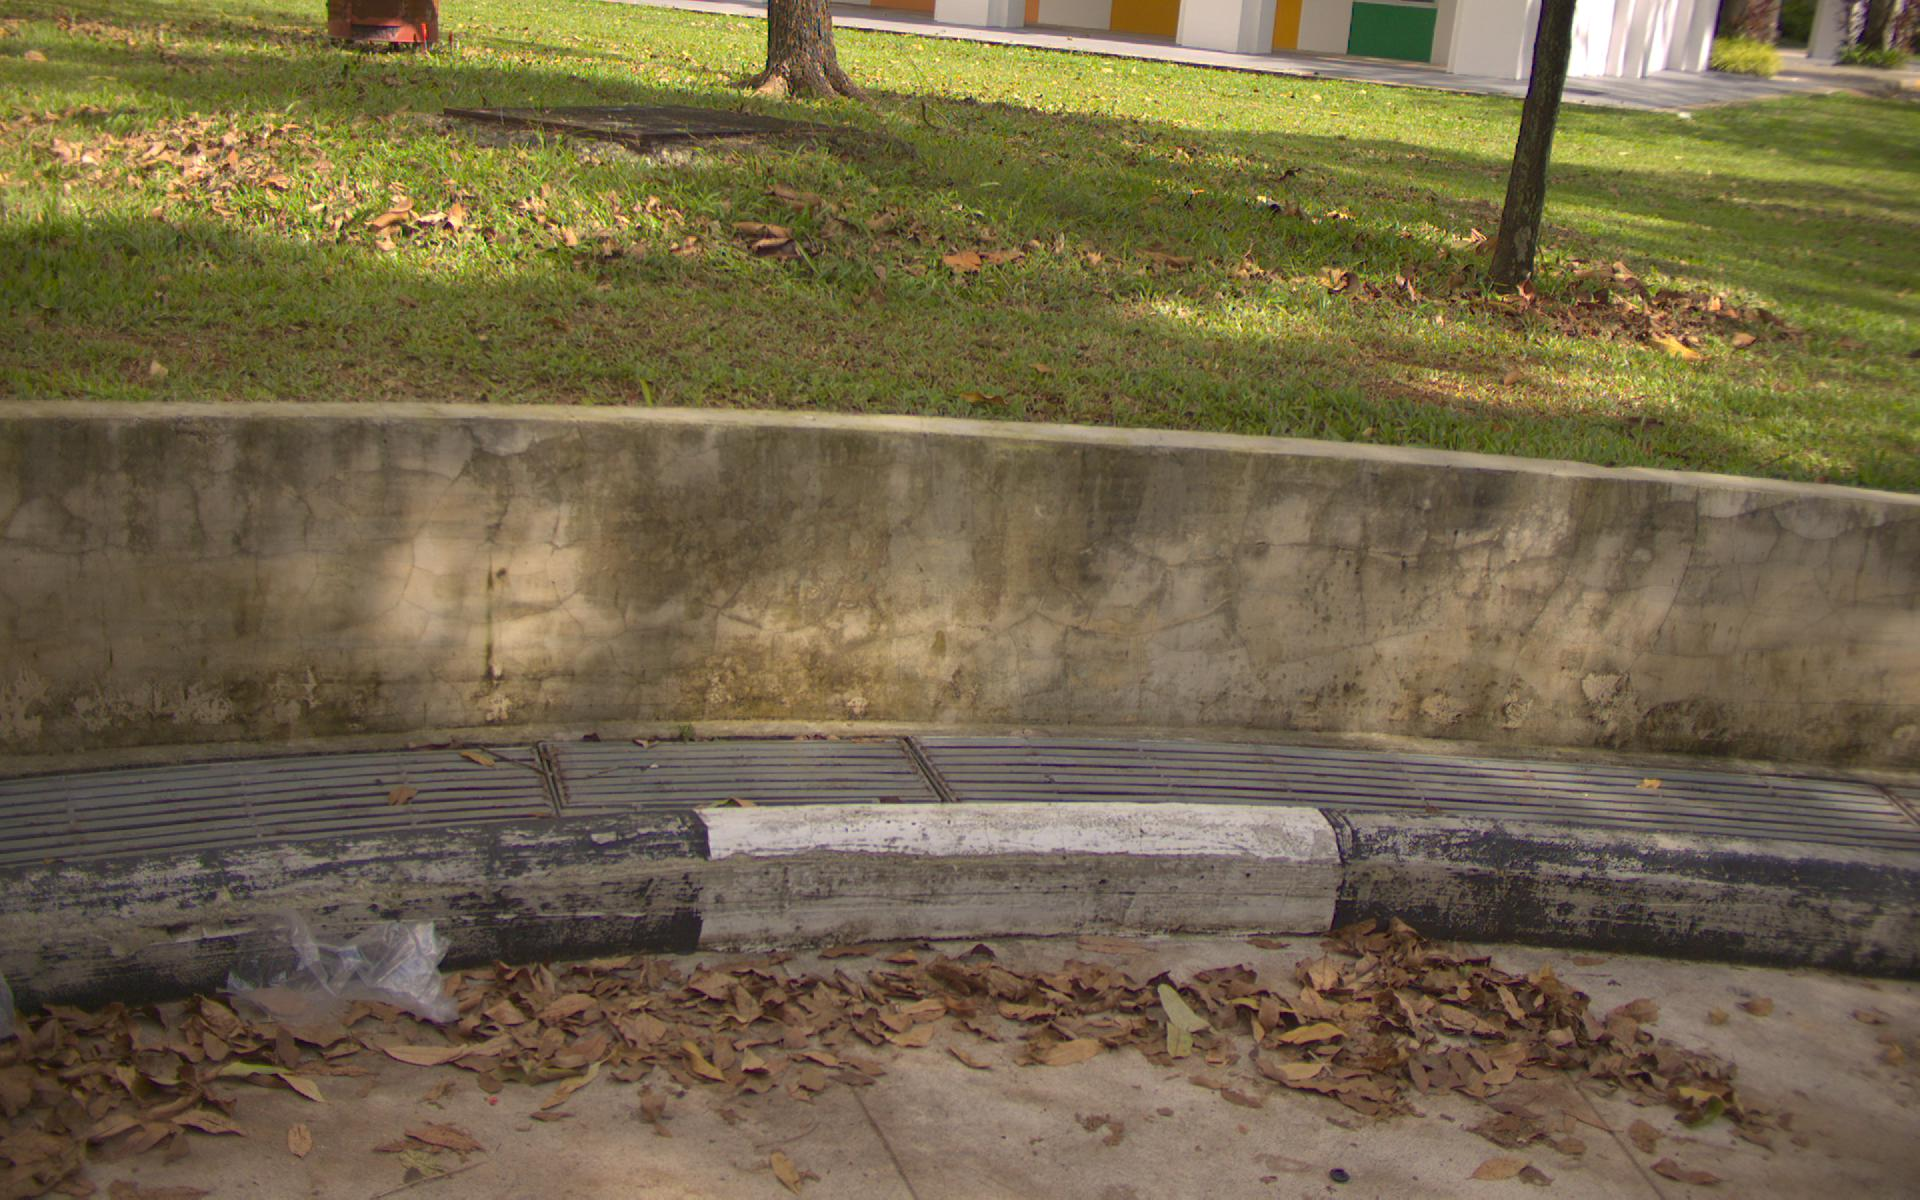curb_grill_low: (19, 742, 1909, 865)
road_curb_medium: (12, 930, 1890, 1193)
road_turf_low: (6, 47, 1901, 474)
